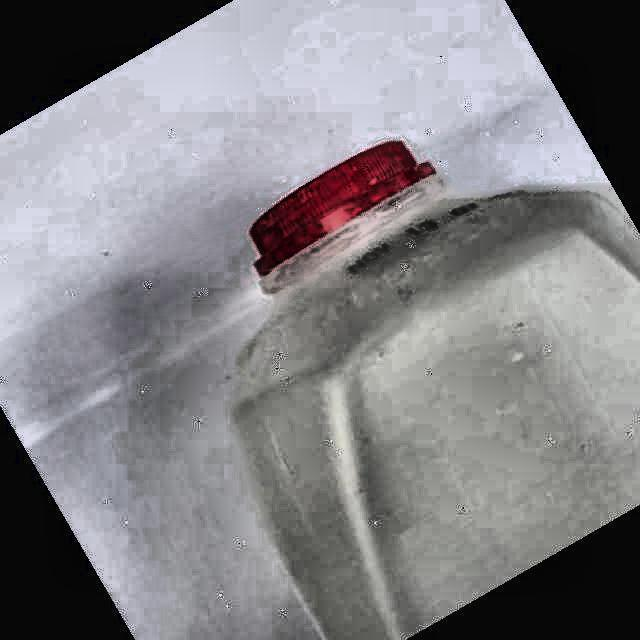plastic: (232, 141, 639, 639)
